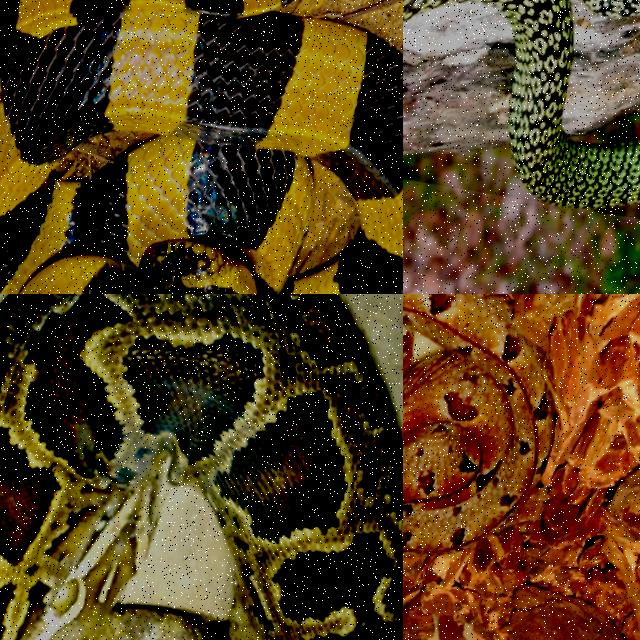Bungarus fasciatus: (0, 0, 402, 293)
Calloselasma rhodostoma: (403, 294, 553, 554)
Chrysopelea ornata: (467, 0, 639, 206)
Python bivittatus: (0, 294, 402, 639)
snake: (0, 294, 402, 639), (0, 0, 402, 293), (403, 294, 553, 554), (467, 0, 639, 206)
